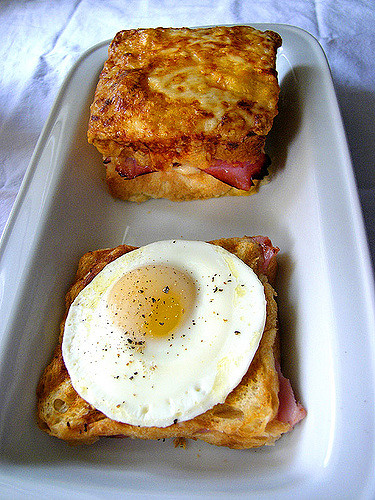fried egg: (90, 266, 229, 408)
slice of bread: (97, 29, 293, 188), (44, 384, 275, 453), (209, 224, 281, 283), (67, 237, 117, 301)
